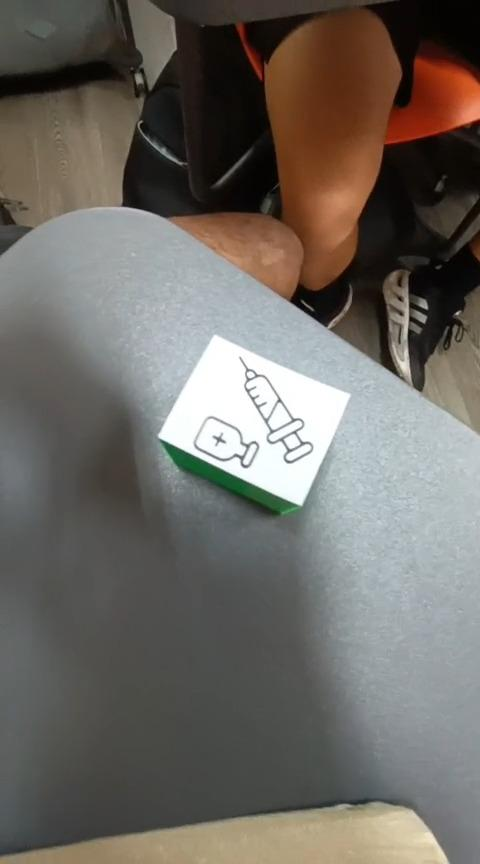antiseptic cream: (156, 333, 350, 516)
